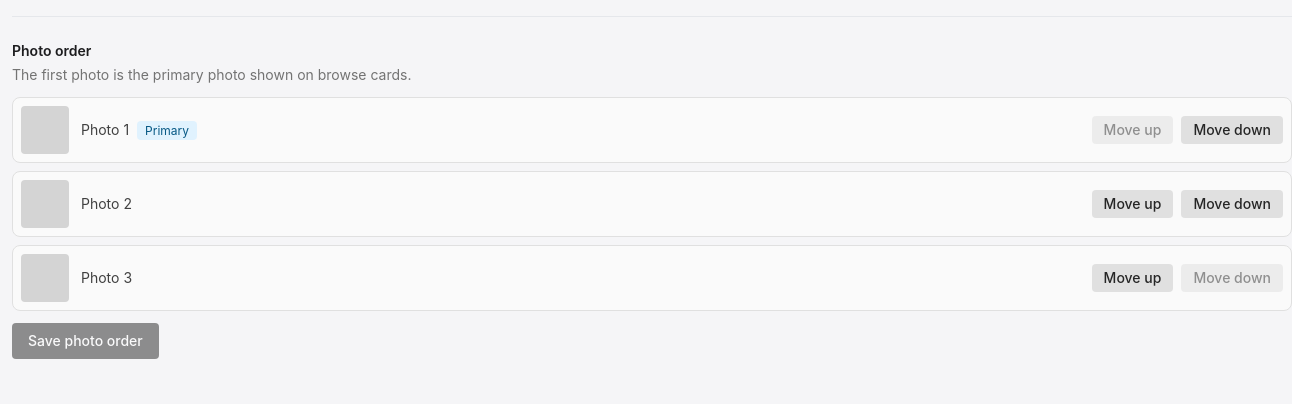
Test: GalleryOrderEditor (backlog #162) › a 400 (the gallery changed under the editor) maps to friendly copy, never the raw envelope
Click the button with aria-label "Move photo 1 down": {"x": 1232, "y": 130} [1181,116,1283,144]
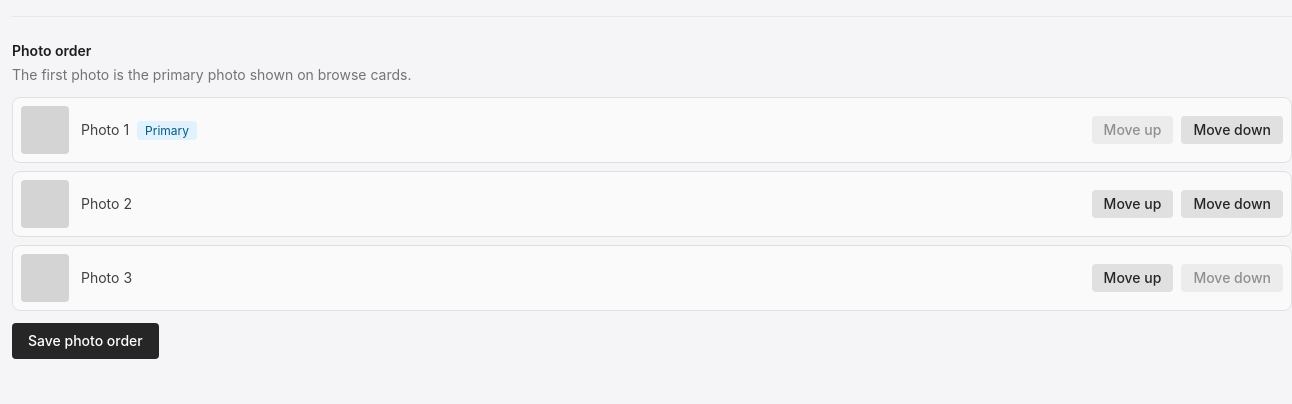
Click the button "Save photo order": {"x": 85, "y": 341} [12,323,159,359]
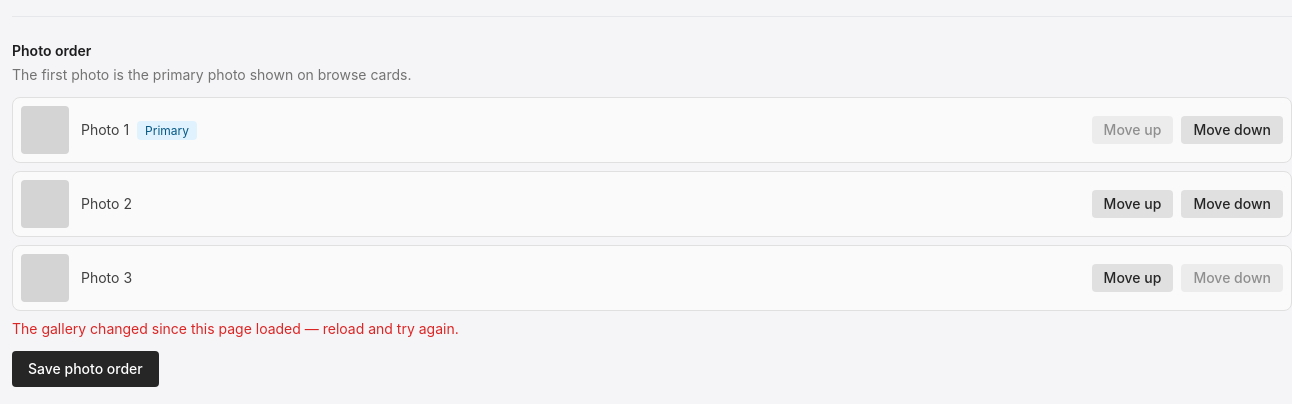
Check: the message reads "The gallery changed since this page loaded — reload and try again.", box [12,320,459,337]
